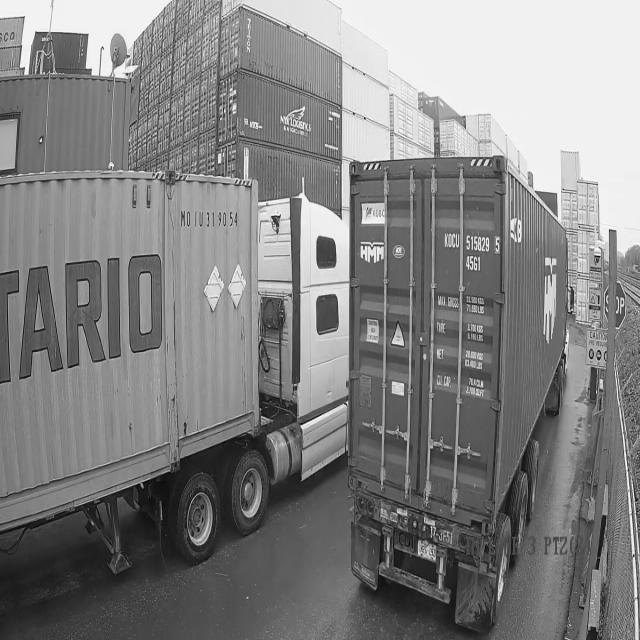container_company_logo: (358, 235, 385, 272)
container_number: (441, 227, 504, 280)
container_side_no: (175, 200, 241, 229)
license_plate: (410, 531, 441, 563)
other_container_info: (434, 289, 488, 410)
truck_with_container: (0, 171, 349, 573), (347, 156, 568, 631)
